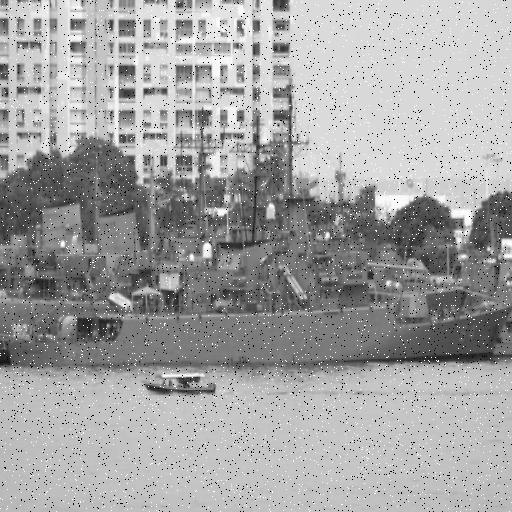Fragata: (1, 85, 512, 373)
